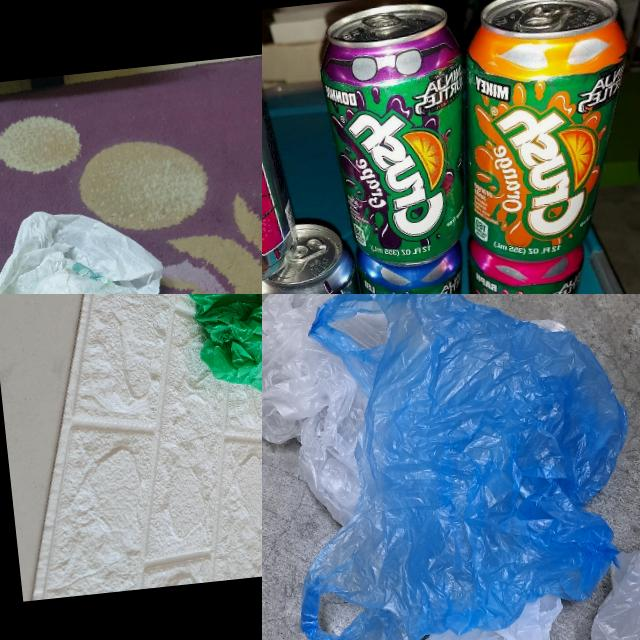aba de lata: (516, 0, 572, 32), (285, 234, 332, 264), (360, 8, 402, 32)
lata: (442, 0, 640, 266), (313, 0, 483, 274), (458, 224, 595, 294), (262, 215, 376, 294), (351, 230, 476, 294)
sacola plástica: (265, 294, 640, 640), (262, 294, 410, 534), (0, 185, 224, 294), (526, 475, 640, 640)
